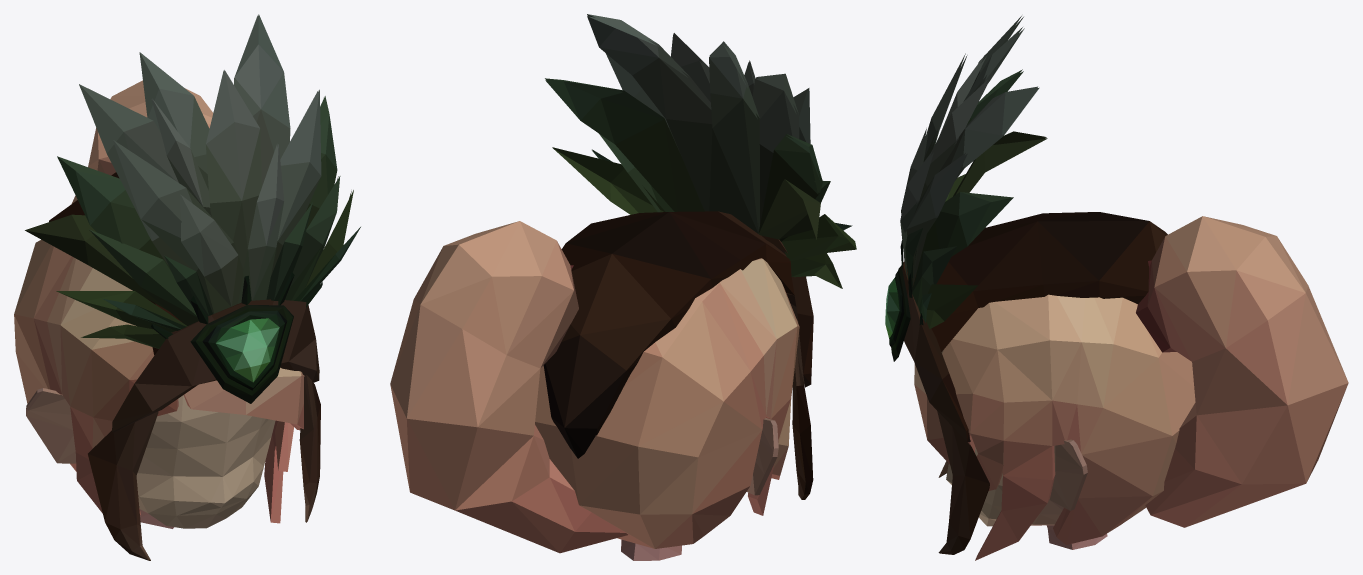
File: helm_lightskin_ponytail_blonde_headress.fbx
3 renders of one model, left to right at view 1: azimuth 30°, elevation 25°; view 2: azimuth 150°, elevation 25°; view 3: azimuth 270°, elevation 25°, orthographic. The views are drawn at different scales.
Visible parts, largest first — view 1: helm_lightskin_ponytail_blonde_headress; view 2: helm_lightskin_ponytail_blonde_headress; view 3: helm_lightskin_ponytail_blonde_headress.
Part boxes in pixels (x1=…): helm_lightskin_ponytail_blonde_headress: x1=14, y1=14, x2=360, y2=560; helm_lightskin_ponytail_blonde_headress: x1=390, y1=14, x2=856, y2=560; helm_lightskin_ponytail_blonde_headress: x1=885, y1=16, x2=1348, y2=560.
Bounding box in the file's own units: 1.31 × 2.07 × 1.75.
